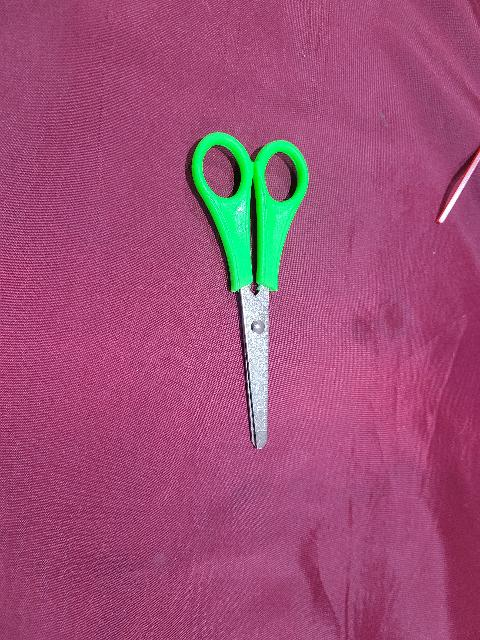Metal: (197, 286, 316, 465)
Plastik: (180, 133, 315, 293)
